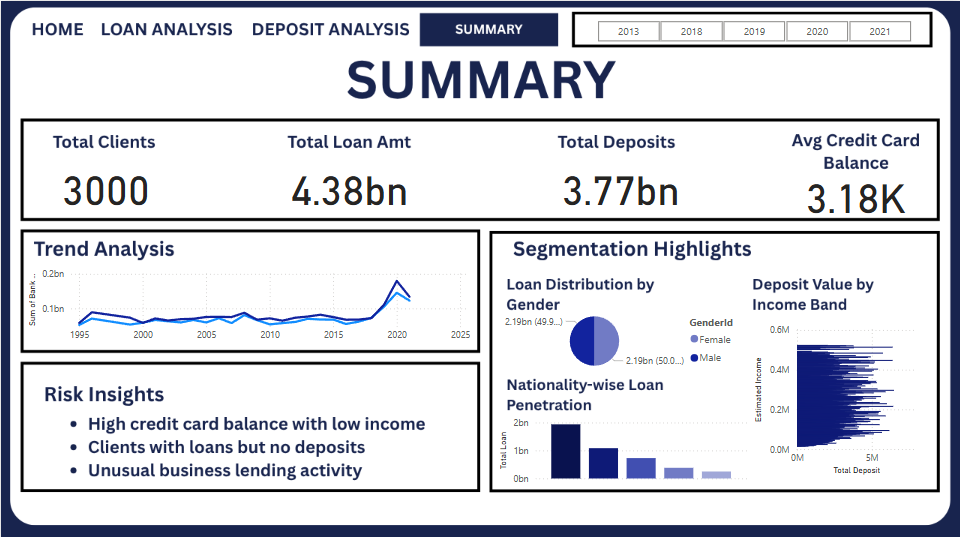

Layout of this report page (visuals, bound fields, positions):
{"tool":"powerbi","page":{"name":"Summary","canvas":[1280,720],"ordinal":3},"visuals":[{"type":"card","fields":{"Values":["CountNonNull(Banking_Clients.Client ID)"]},"box":[0,211.4,280,68.6],"z":0},{"type":"card","fields":{"Values":["Blank Query.Total Loan"]},"box":[325,211.4,280,68.6],"z":1000},{"type":"card","fields":{"Values":["Avg(Banking_Clients.Credit Card Balance)"]},"box":[1000,223.3,280,68.3],"z":2000},{"type":"card","fields":{"Values":["Blank Query.Total Deposit"]},"box":[687.1,211.4,280,67.9],"z":3000},{"type":"lineChart","fields":{"Category":["Banking_Clients.Year of Joining"],"Y":["Sum(Banking_Clients.Bank Loans)","Sum(Banking_Clients.Bank Deposits)"]},"box":[32.2,350,598.9,113.3],"z":4000},{"type":"pieChart","fields":{"Category":["Banking_Clients.GenderId"],"Y":["Blank Query.Total Loan"]},"box":[660,406.2,340,93.8],"z":5000},{"type":"columnChart","fields":{"Y":["Blank Query.Total Loan"],"Category":["Banking_Clients.Nationality"]},"box":[660,547.5,340,102.5],"z":6000},{"type":"barChart","fields":{"Y":["Blank Query.Total Deposit"],"Category":["Banking_Clients.Estimated Income"]},"box":[1000,425,235,212.5],"z":6001},{"type":"actionButton","box":[34.1,20,84.1,40],"z":6002},{"type":"actionButton","box":[331.7,20,215.8,40],"z":6003},{"type":"slicer","fields":{"Values":["Banking_Clients.Year of Joining"]},"box":[770,20,467.1,37.1],"z":6004}]}

Visuals, with their boxes in screenshot pixels (x1, y1, x2, y2), scaled from the page's 1280x720 canvas onto the 960x537 screenshot:
card - CountNonNull(Banking_Clients.Client ID): bbox(0, 158, 210, 209)
card - Blank Query.Total Loan: bbox(244, 158, 454, 209)
card - Avg(Banking_Clients.Credit Card Balance): bbox(750, 167, 959, 217)
card - Blank Query.Total Deposit: bbox(515, 158, 725, 208)
lineChart - Banking_Clients.Year of Joining x Sum(Banking_Clients.Bank Loans): bbox(24, 261, 473, 346)
pieChart - Banking_Clients.GenderId x Blank Query.Total Loan: bbox(495, 303, 750, 373)
columnChart - Blank Query.Total Loan x Banking_Clients.Nationality: bbox(495, 408, 750, 485)
barChart - Blank Query.Total Deposit x Banking_Clients.Estimated Income: bbox(750, 317, 926, 475)
actionButton: bbox(26, 15, 89, 45)
actionButton: bbox(249, 15, 411, 45)
slicer - Banking_Clients.Year of Joining: bbox(578, 15, 928, 43)
